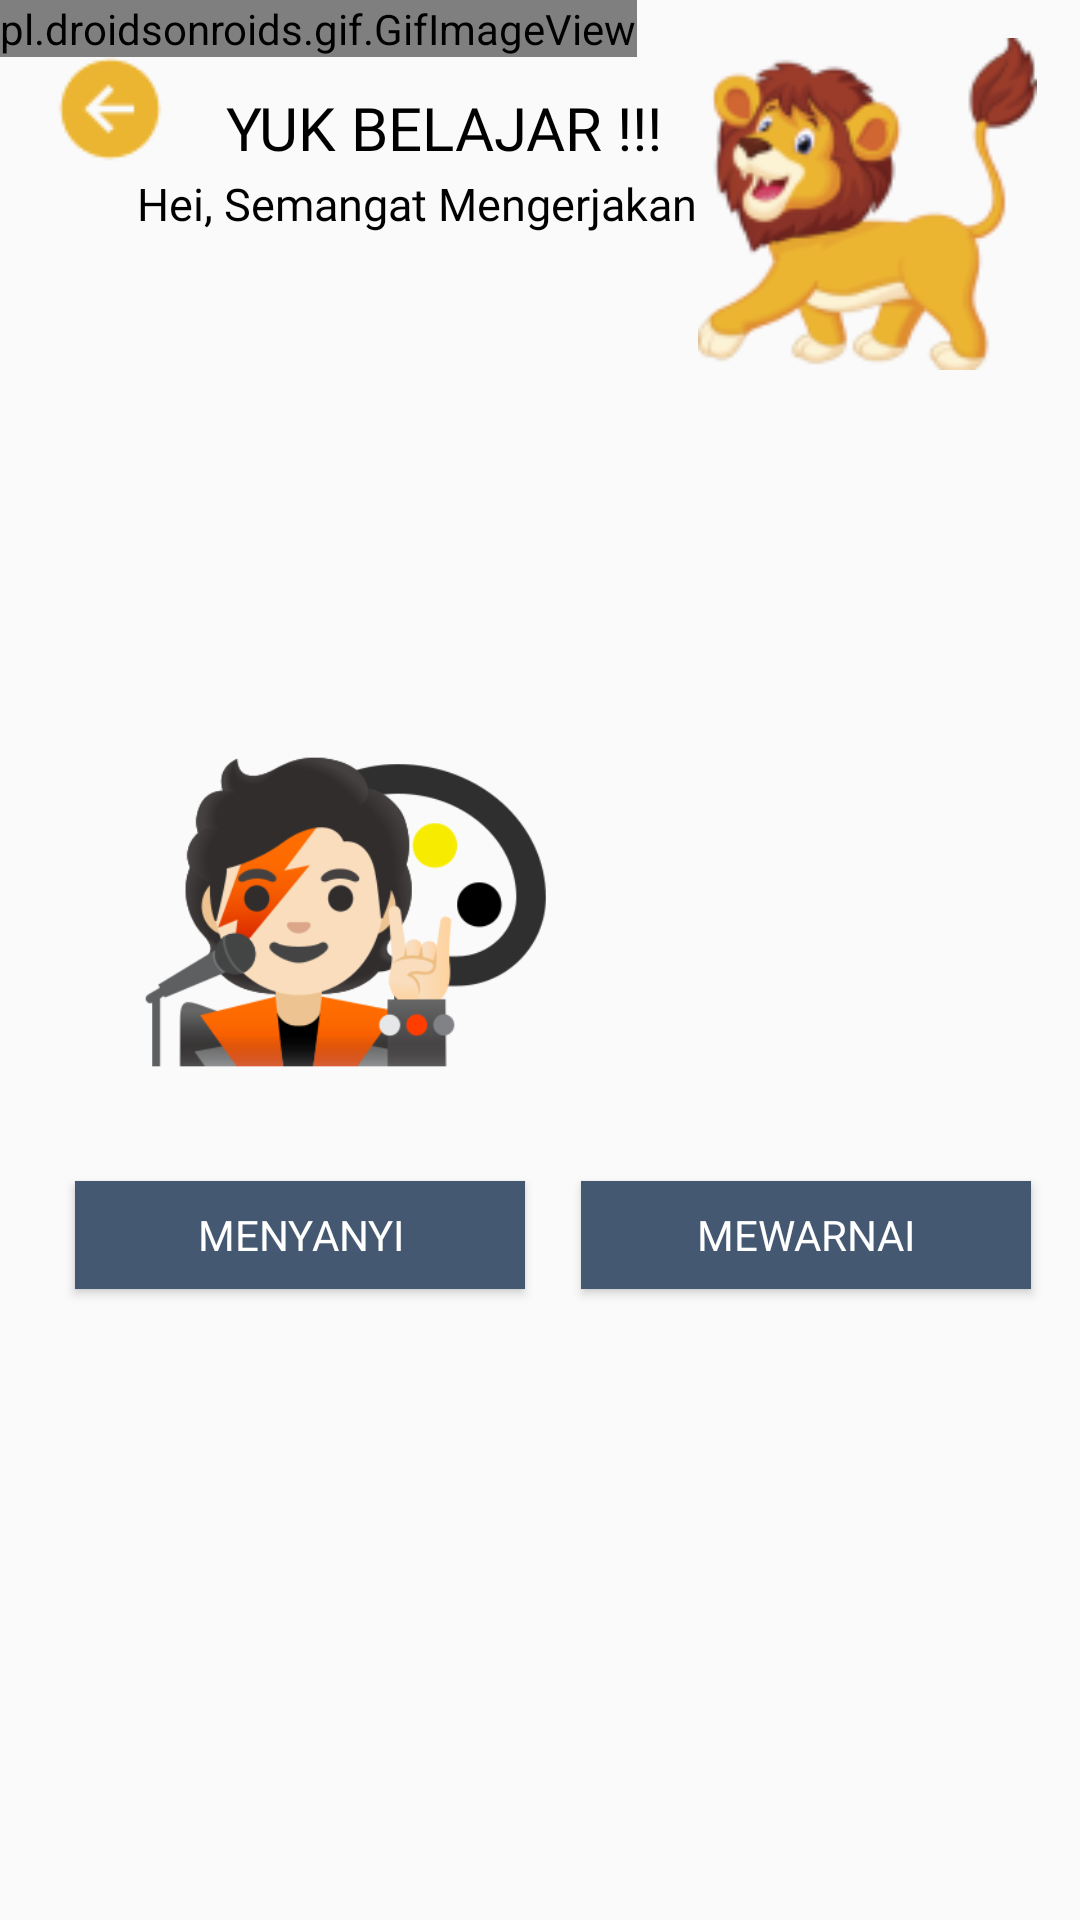

Icon bounding boxes for this 1080*1920 phone screenshot, format BBox(x1, y1, x2, y2):
keluar: BBox(59, 58, 161, 160)
singa: BBox(698, 38, 1037, 370)
